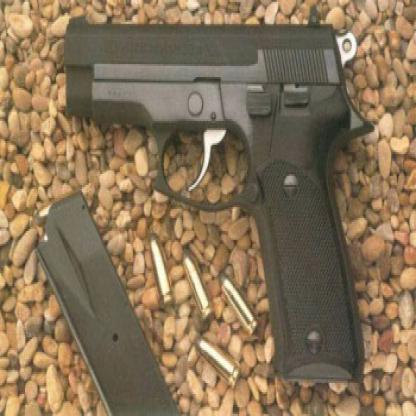Guns: (59, 7, 377, 388)
